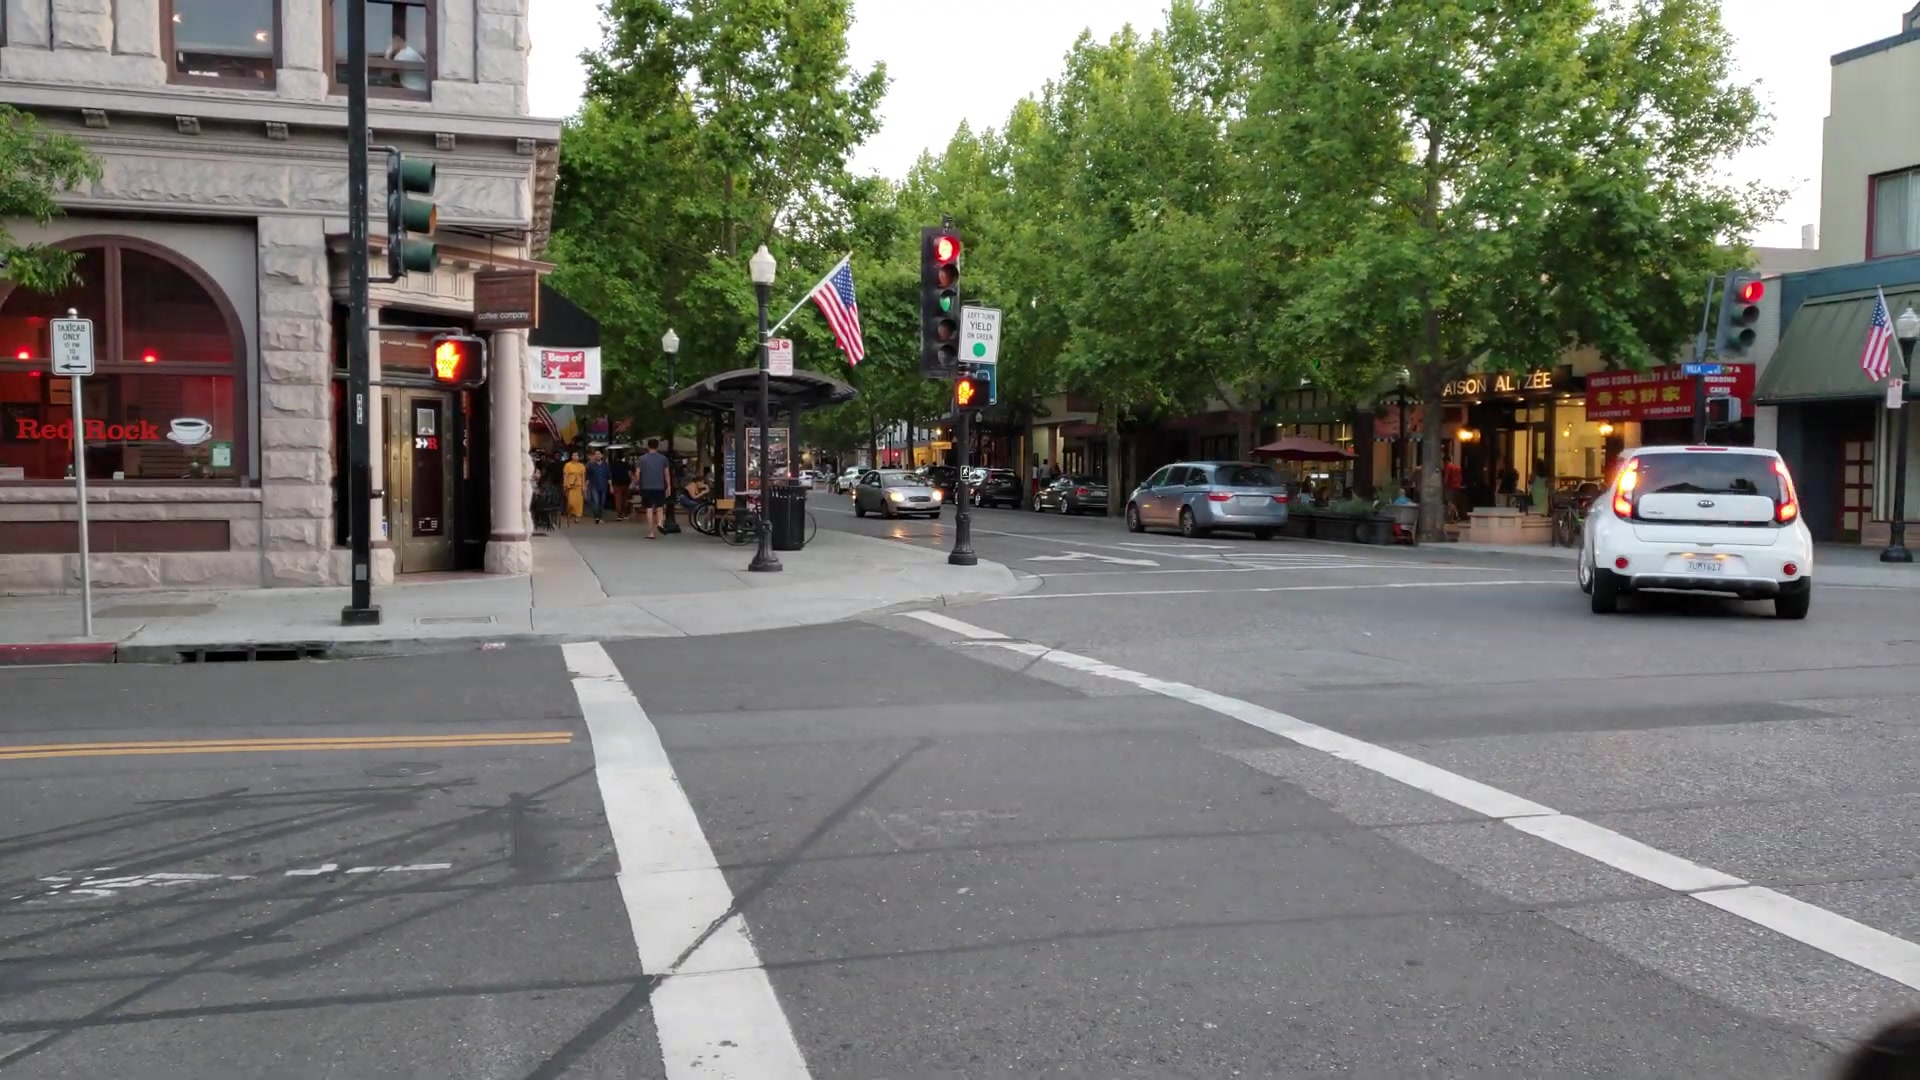vehicle: (1578, 444, 1815, 618), (1124, 459, 1291, 539), (855, 469, 944, 522)
